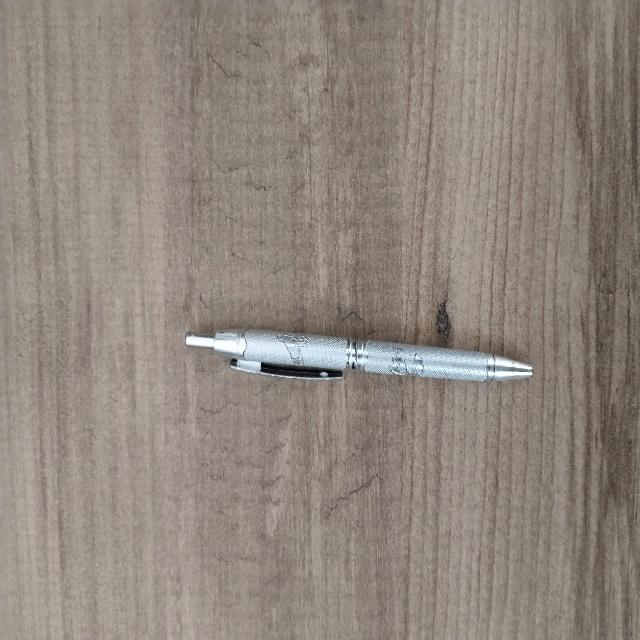signature pen: (186, 329, 531, 381)
